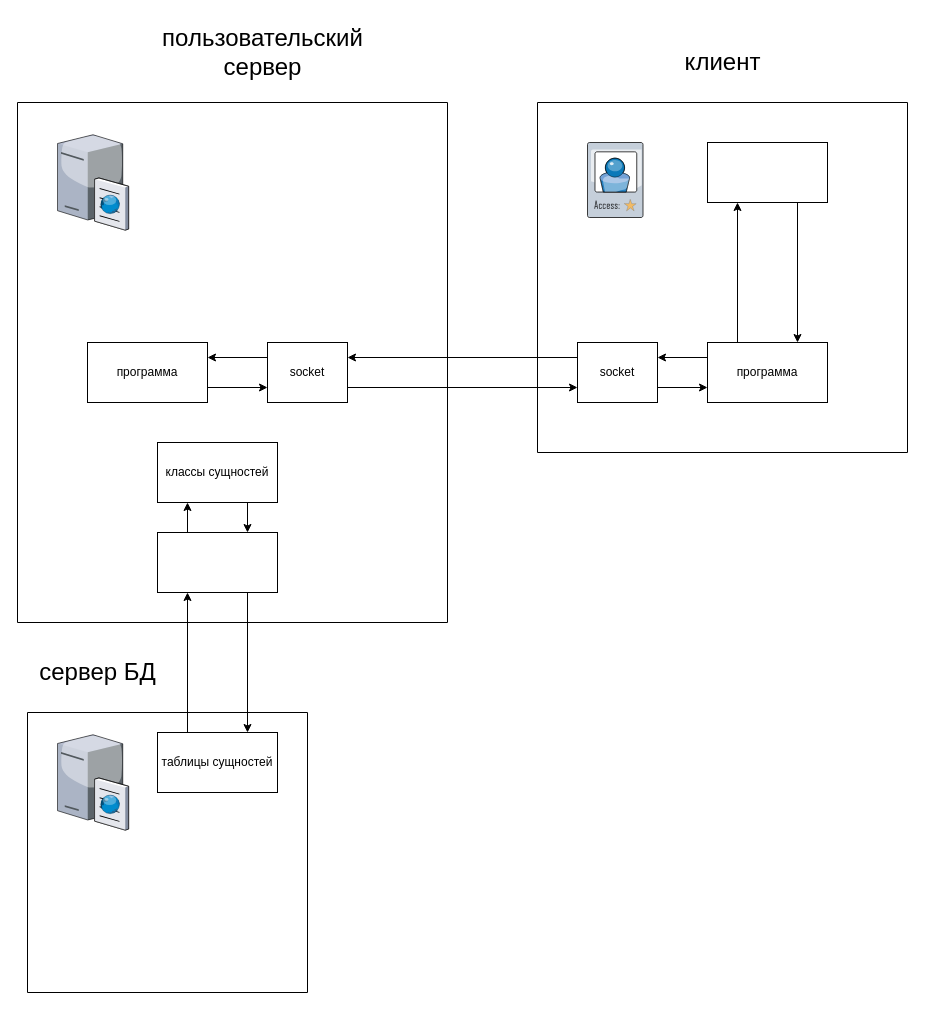
This 925x1010 diagram has some shape labels left out. Each missing label, with the box of its shape:
Entity Framework (ORM): (156, 532, 278, 592)
интерфейс: (706, 142, 828, 202)
